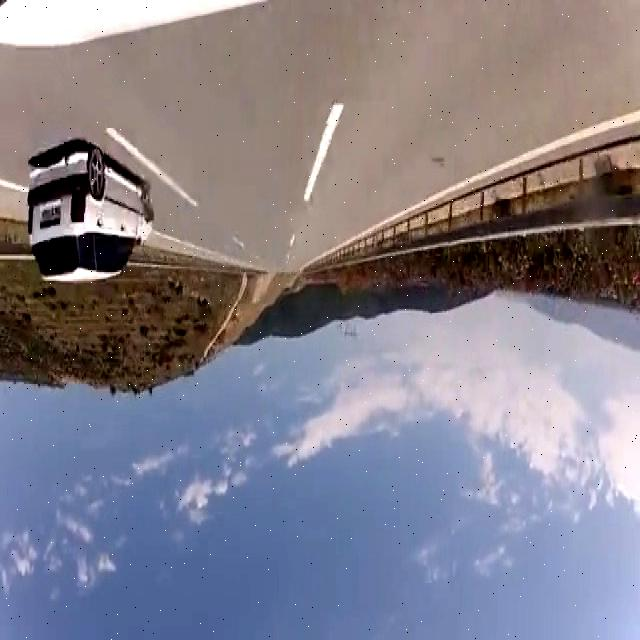lane: (366, 110, 640, 232), (107, 127, 198, 206), (305, 103, 344, 201)
road: (1, 4, 640, 272)
